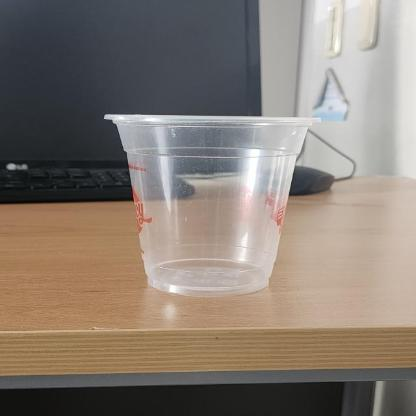Plastic Cup: (101, 112, 327, 296)
